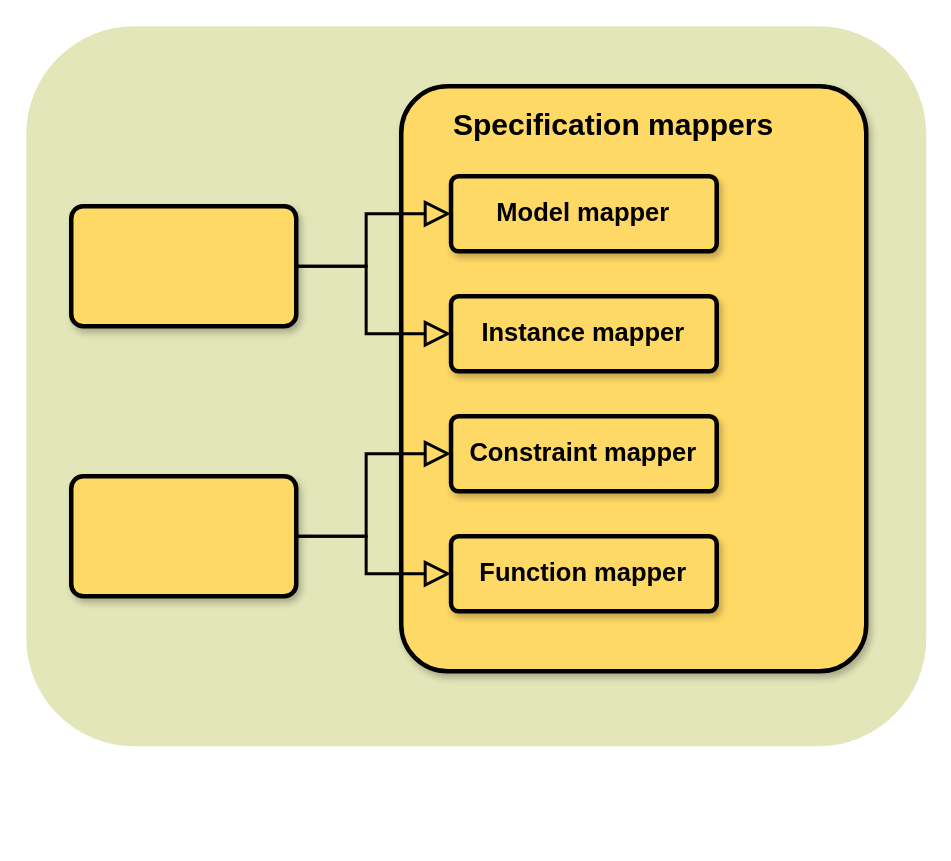
Some shapes in this 951 by 861 pixel diagram are drawn without their labels. Here are the shapes that lost their labels. From the top down, the centre of each, then its label:
(x=184, y=267): Client software
(x=184, y=537): Concrete implementation
